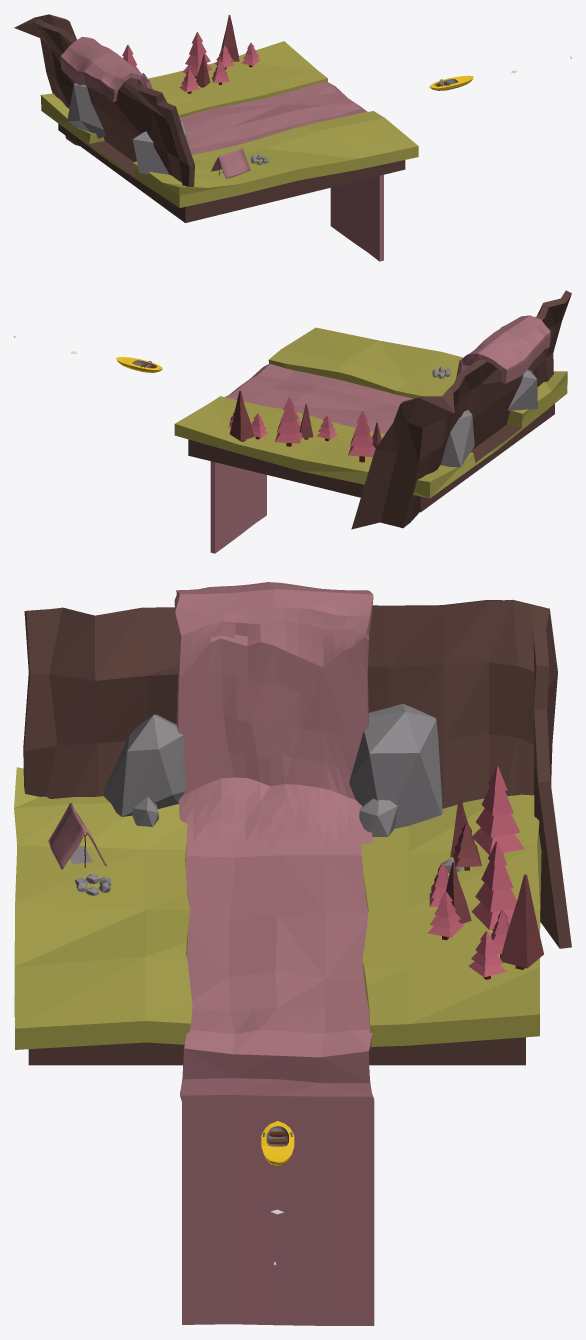
The model's file is waterfallV4.5.glb.
The picture shows the model from 3 angles, top to bottom: view 1: azimuth 30°, elevation 25°; view 2: azimuth 150°, elevation 25°; view 3: azimuth 270°, elevation 25°; orthographic projection. The views are drawn at different scales.
Parts seen in each view (by area): view 1: Flor, River, Cliff, Roc 2.001, Roc 2, Plan, Arbre 2.008, Arbre 1.002, Boat; view 2: Flor, River, Cliff, Roc 2.001, Roc 2, Arbre 2.007, Arbre 2.008, Arbre 1.002, Boat; view 3: River, Flor, Cliff, Roc 2.001, Roc 2, Arbre 2.007, Arbre 1.002, Arbre 2.008, Plan, Roc, Boat, Arbre 2.006 (+1 smaller).
Part boxes in pixels (<box>): Flor: <box>40,41,418,222</box>; River: <box>60,36,383,261</box>; Cliff: <box>14,14,194,186</box>; Roc 2.001: <box>67,83,105,138</box>; Roc 2: <box>133,122,189,174</box>; Plan: <box>211,148,250,178</box>; Arbre 2.008: <box>183,32,212,78</box>; Arbre 1.002: <box>220,15,239,61</box>; Boat: <box>429,75,473,90</box>; Flor: <box>174,327,567,512</box>; River: <box>210,315,550,553</box>; Cliff: <box>351,290,571,529</box>; Roc 2.001: <box>441,410,474,467</box>; Roc 2: <box>507,369,537,410</box>; Arbre 2.007: <box>348,411,375,462</box>; Arbre 2.008: <box>275,397,302,446</box>; Arbre 1.002: <box>229,390,254,441</box>; Boat: <box>116,357,162,372</box>; River: <box>174,582,374,1325</box>; Flor: <box>14,767,541,1065</box>; Cliff: <box>23,599,571,948</box>; Roc 2.001: <box>349,703,442,828</box>; Roc 2: <box>103,714,185,816</box>; Arbre 2.007: <box>472,766,524,854</box>; Arbre 1.002: <box>500,874,543,969</box>; Arbre 2.008: <box>471,841,516,930</box>; Plan: <box>48,803,106,869</box>; Roc: <box>359,798,397,836</box>; Boat: <box>261,1121,294,1166</box>; Arbre 2.006: <box>468,931,506,979</box>.
Bounding box in the file's own units: 17.36 × 8.55 × 8.75.
